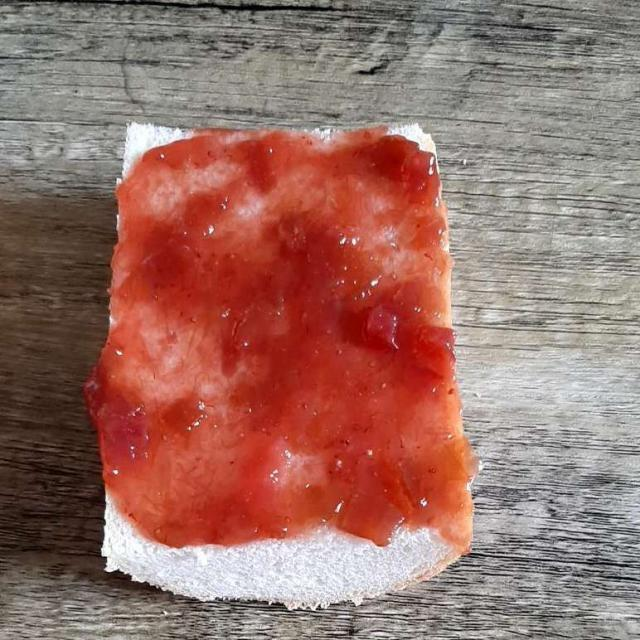bread: (92, 128, 466, 590)
jam: (95, 140, 457, 562)
